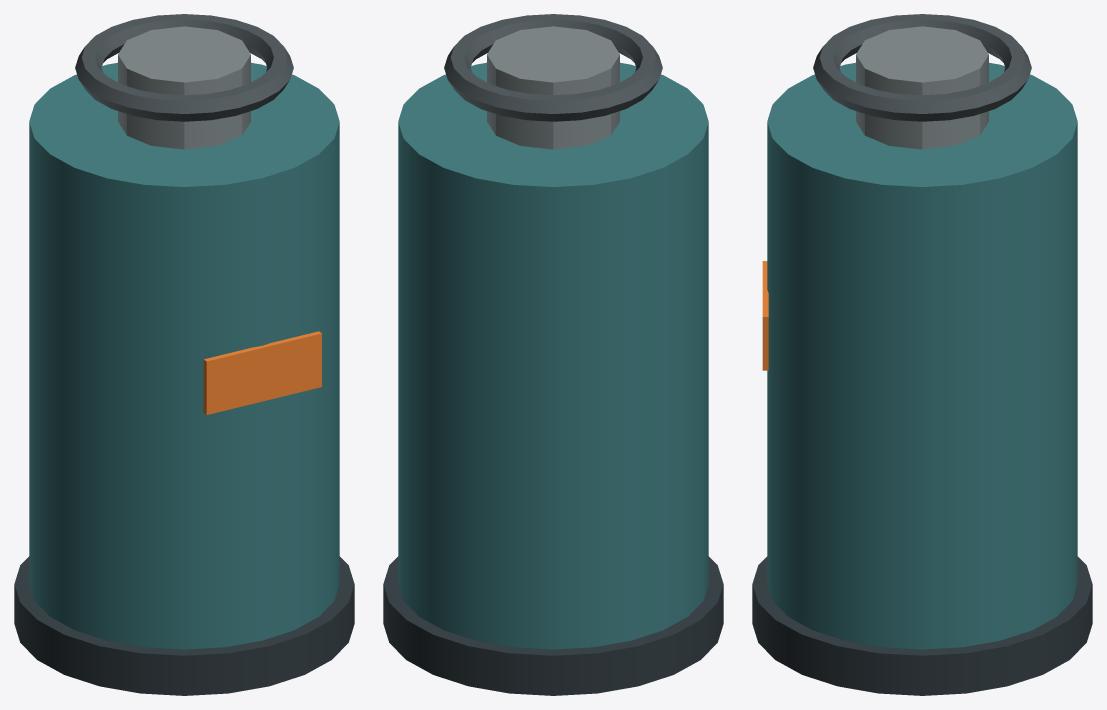
Rendered from service-canister-lod0.glb.
3 views of the same model, side by side, from view 1: azimuth 30°, elevation 25°; view 2: azimuth 150°, elevation 25°; view 3: azimuth 270°, elevation 25° (orthographic).
Visible parts, largest first — view 1: static; view 2: static; view 3: static.
Boxes of the visible parts, <box> form: static: <box>14,14,354,695</box>; static: <box>383,14,723,695</box>; static: <box>752,14,1092,695</box>.
Bounding box in the file's own units: 0.46 × 0.85 × 0.46.
